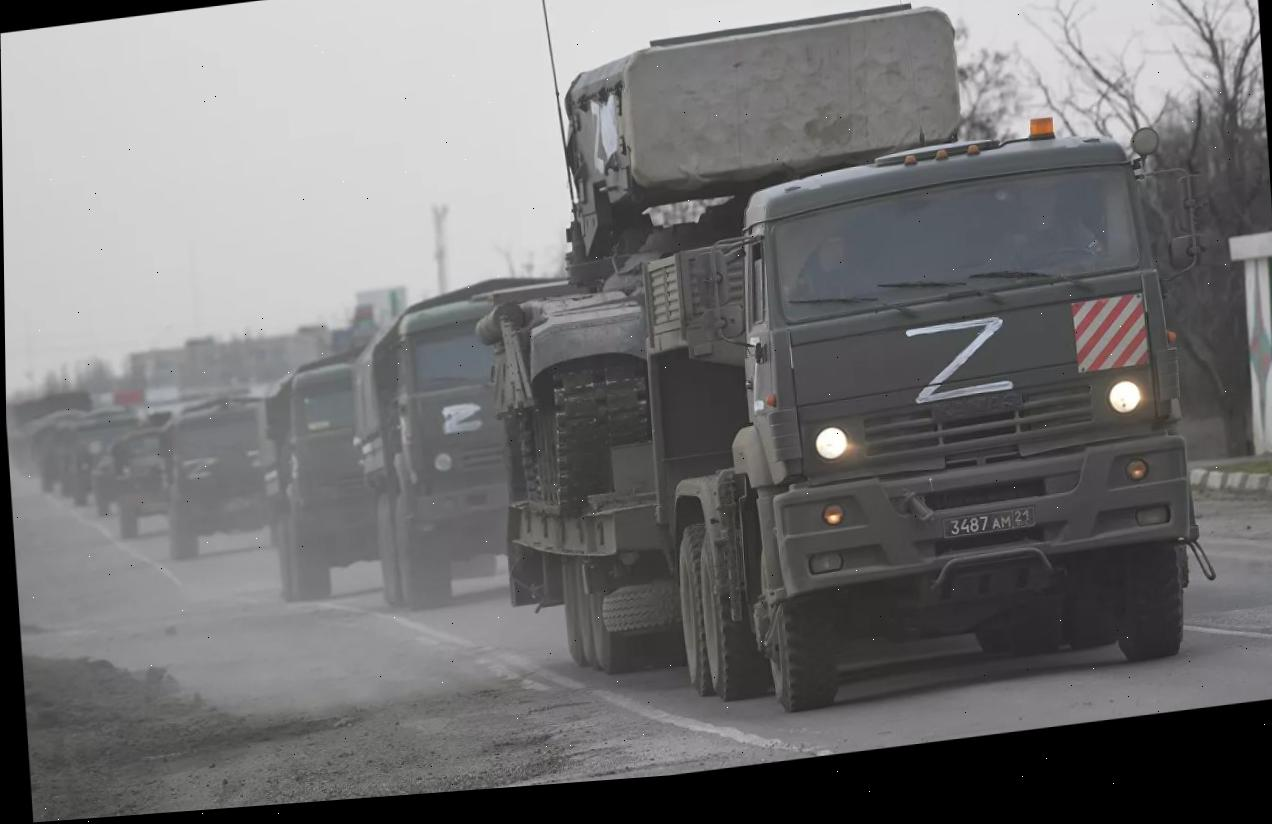rszo: (484, 0, 1001, 505)
truck: (646, 106, 1208, 725), (360, 271, 529, 622), (248, 329, 388, 636), (151, 384, 287, 588), (111, 414, 172, 558), (70, 407, 127, 538)
